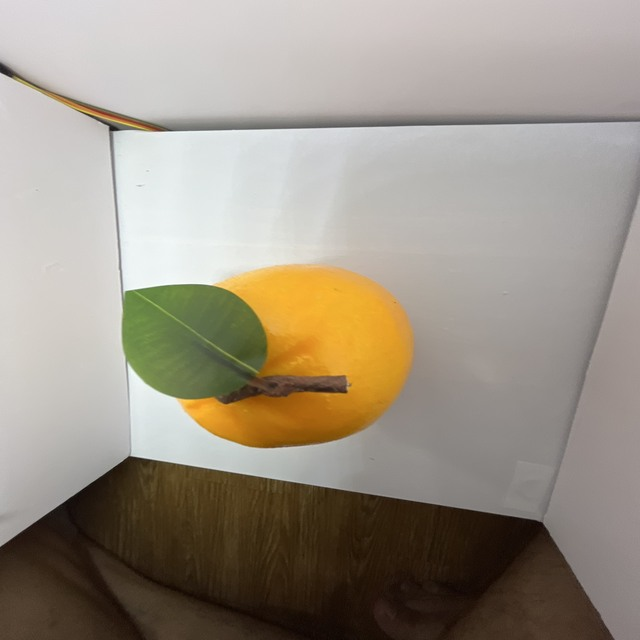Cam vang: (164, 265, 417, 453)
